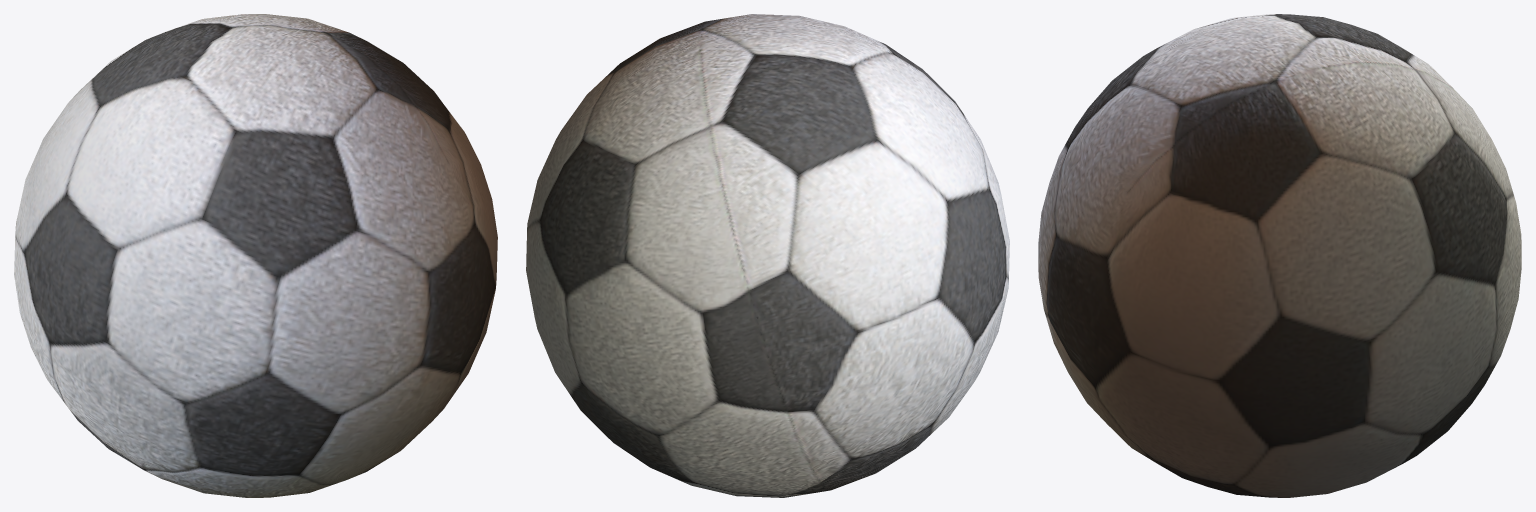
The model's file is ballon.glb.
3 views of the same model, side by side, from view 1: azimuth 30°, elevation 25°; view 2: azimuth 150°, elevation 25°; view 3: azimuth 270°, elevation 25° (orthographic).
Visible parts, largest first — view 1: Soccer Ball_Baked; view 2: Soccer Ball_Baked; view 3: Soccer Ball_Baked.
Boxes of the visible parts, x1,y1,x2,y2 form: Soccer Ball_Baked: (14, 14, 497, 497); Soccer Ball_Baked: (526, 14, 1009, 497); Soccer Ball_Baked: (1038, 14, 1521, 497).
Bounding box in the file's own units: 0.4393 × 0.4397 × 0.4394.
1 material, 1 textured.
